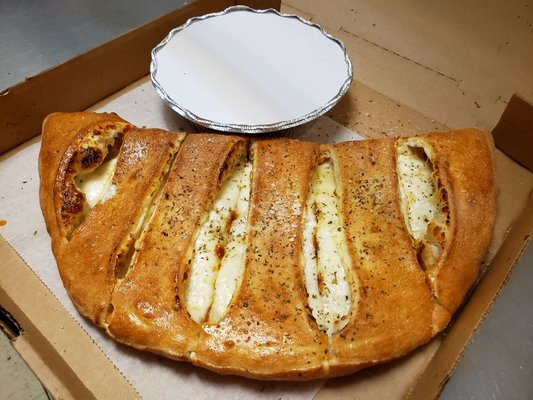curry: (3, 3, 531, 396)
